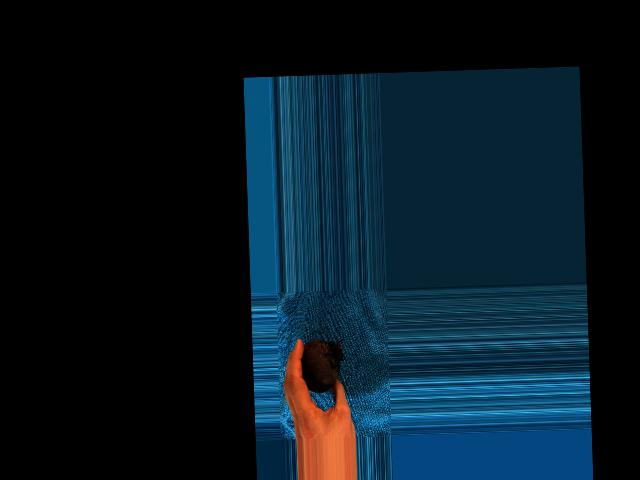beet: (301, 338, 345, 392)
